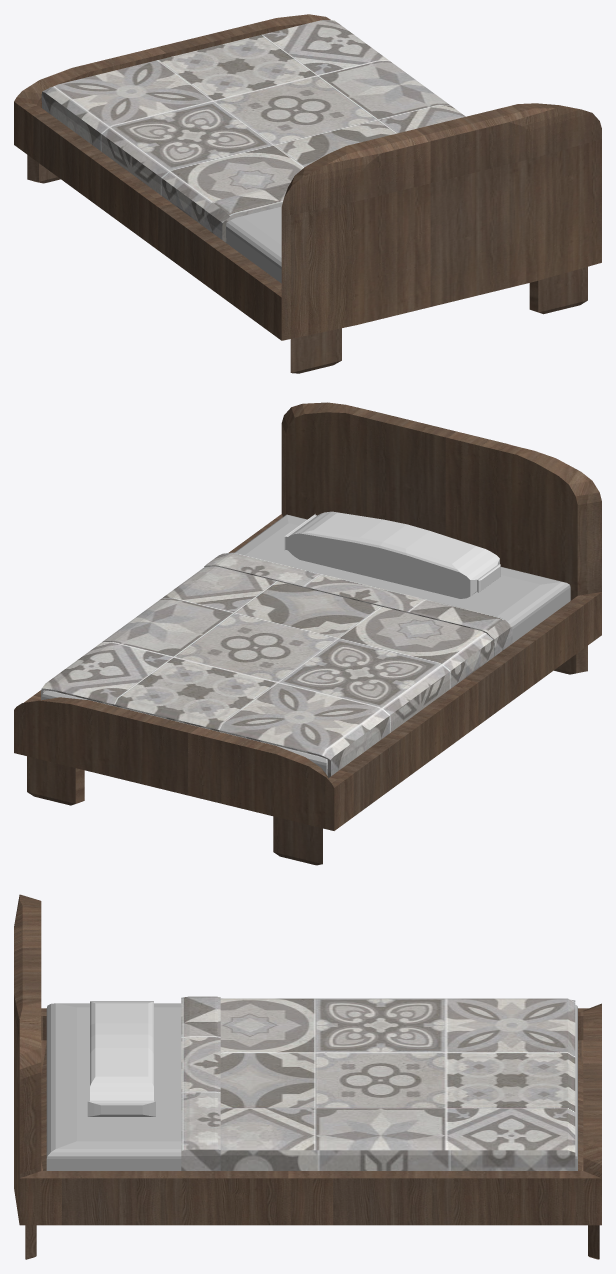
The model's file is cama.fbx.
3 views of the same model, one above another, from view 1: azimuth 30°, elevation 25°; view 2: azimuth 150°, elevation 25°; view 3: azimuth 270°, elevation 25° (orthographic). The views are drawn at different scales.
Parts seen in each view (by area): view 1: Mesh; view 2: Mesh; view 3: Mesh.
Boxes of the visible parts, box(x1,y1,x2,y2) form: Mesh: box(14, 14, 601, 373); Mesh: box(14, 402, 601, 865); Mesh: box(14, 894, 601, 1259).
Size of the model in its own units: 1.64 by 1.03 by 2.4.
Materials: 4 (2 with a texture image).
